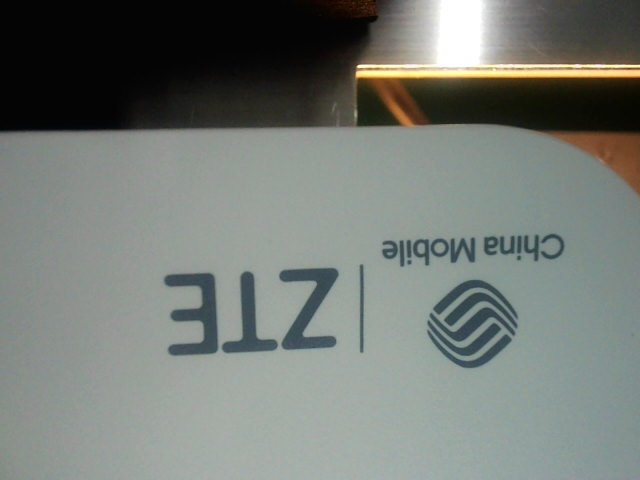AL_ZTEChinaMobile: (156, 228, 571, 372)
